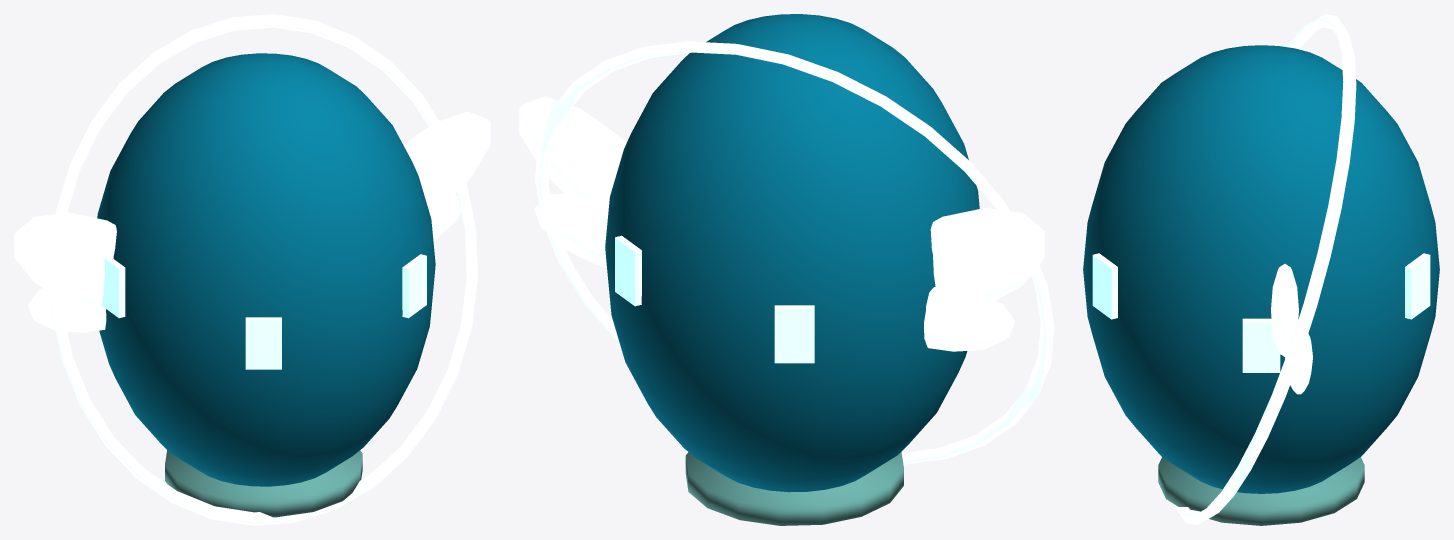
File: egg_deepsea_11.glb
3 renders of one model, left to right at view 1: azimuth 30°, elevation 25°; view 2: azimuth 150°, elevation 25°; view 3: azimuth 270°, elevation 25°, orthographic. The views are drawn at different scales.
Visible parts, largest first — view 1: ball; view 2: ball; view 3: ball.
Part boxes in pixels (x1,y1,x2,y2): ball: [14, 14, 490, 525]; ball: [519, 14, 1054, 525]; ball: [1083, 14, 1439, 525].
Bounding box in the file's own units: 1.2 × 1.06 × 0.76.
